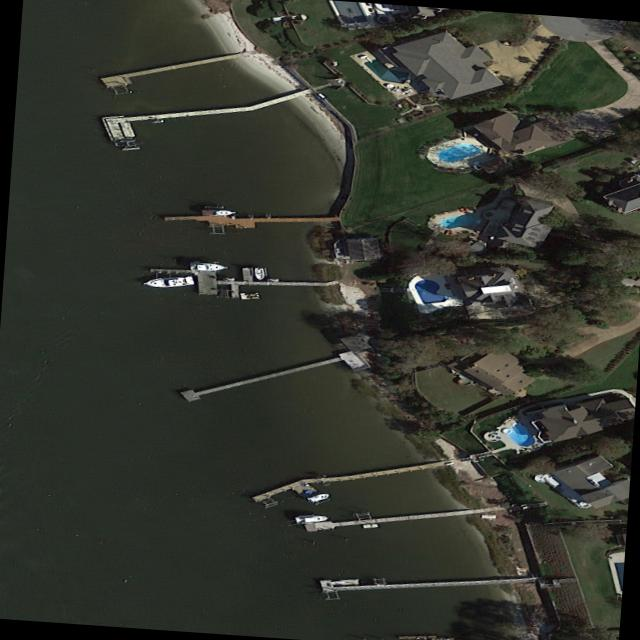ship: (139, 274, 194, 289), (187, 261, 225, 271), (293, 513, 328, 523), (304, 491, 331, 503), (199, 209, 236, 216), (250, 265, 266, 281), (239, 292, 261, 299), (219, 276, 234, 280), (265, 278, 278, 282)
small-vehicle: (625, 158, 640, 168), (618, 43, 626, 47), (621, 45, 629, 49)
